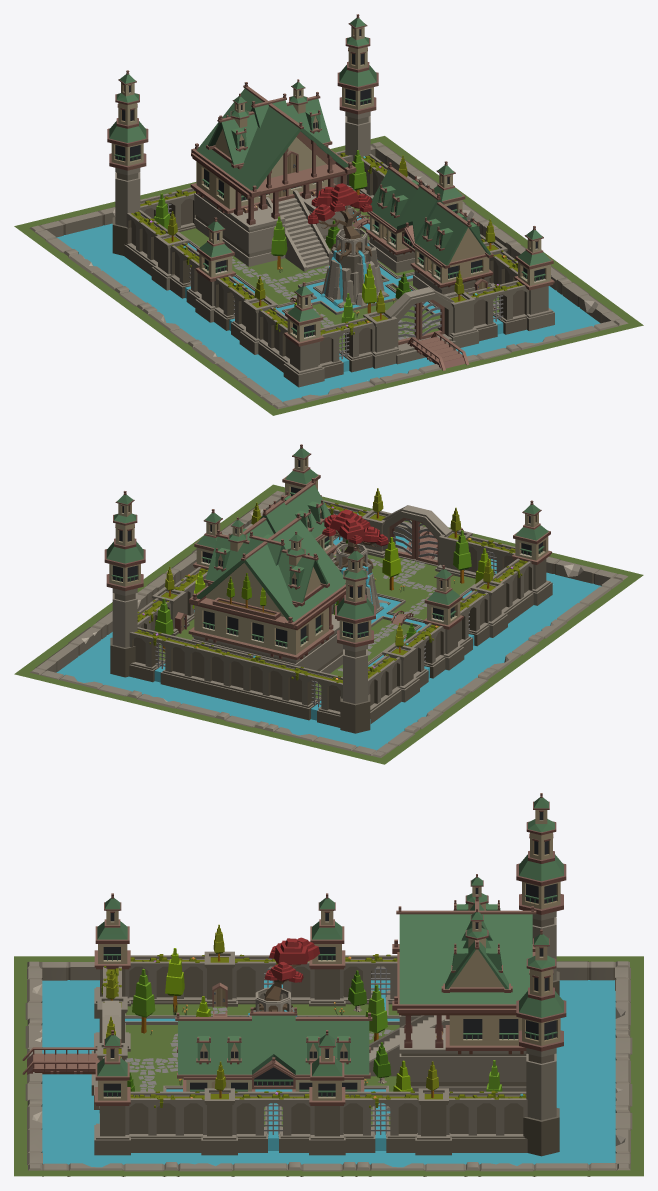
Rendered from SF_Bld_Preset_Elven_Castle_01.fbx.
3 views of the same model, one above another, from view 1: azimuth 30°, elevation 25°; view 2: azimuth 150°, elevation 25°; view 3: azimuth 270°, elevation 25° (orthographic). The views are drawn at different scales.
Parts seen in each view (by area): view 1: SF_Env_Preset_Elven_Castle_01; view 2: SF_Env_Preset_Elven_Castle_01; view 3: SF_Env_Preset_Elven_Castle_01.
Part boxes in pixels (<box>): SF_Env_Preset_Elven_Castle_01: <box>14,14,643,415</box>; SF_Env_Preset_Elven_Castle_01: <box>14,444,643,764</box>; SF_Env_Preset_Elven_Castle_01: <box>14,793,643,1176</box>.
Size of the model in its own units: 95 by 44.29 by 115.
